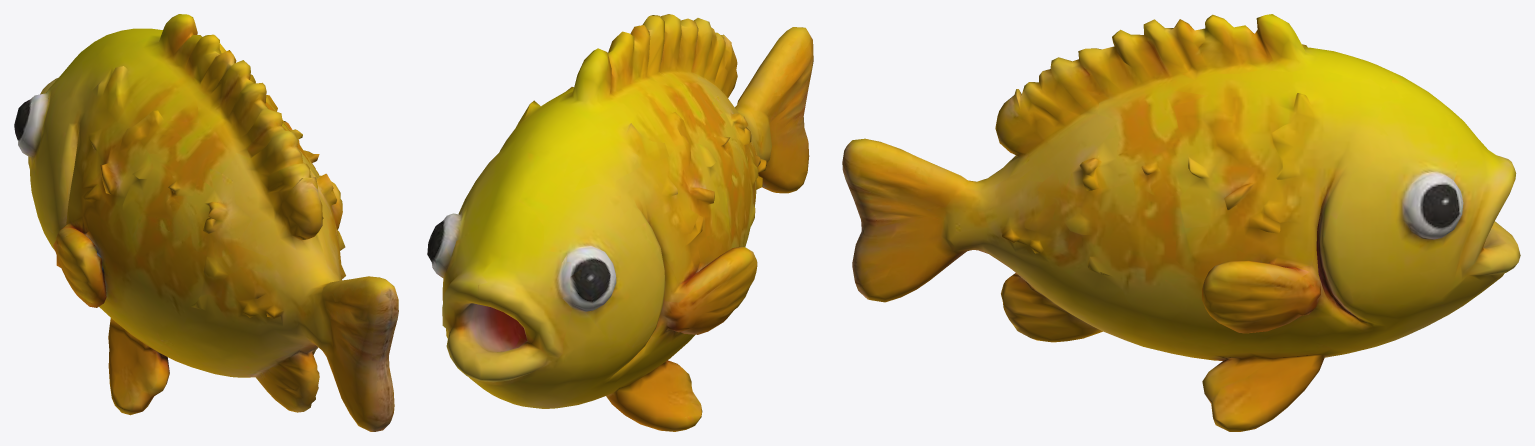
Rendered from hwangsso.glb.
The picture shows the model from 3 angles, left to right: view 1: azimuth 30°, elevation 25°; view 2: azimuth 150°, elevation 25°; view 3: azimuth 270°, elevation 25°; orthographic projection. The views are drawn at different scales.
Visible parts, largest first — view 1: tripo_node_acad5b12-b7ce-4b85-9c1e-9a986a1e51e3; view 2: tripo_node_acad5b12-b7ce-4b85-9c1e-9a986a1e51e3; view 3: tripo_node_acad5b12-b7ce-4b85-9c1e-9a986a1e51e3.
Part boxes in pixels (x1=…): tripo_node_acad5b12-b7ce-4b85-9c1e-9a986a1e51e3: x1=14, y1=14, x2=398, y2=431; tripo_node_acad5b12-b7ce-4b85-9c1e-9a986a1e51e3: x1=427, y1=14, x2=813, y2=431; tripo_node_acad5b12-b7ce-4b85-9c1e-9a986a1e51e3: x1=842, y1=14, x2=1520, y2=431.
Size of the model in its own units: 0.4653 by 0.6202 by 1.
1 material, 1 textured.
